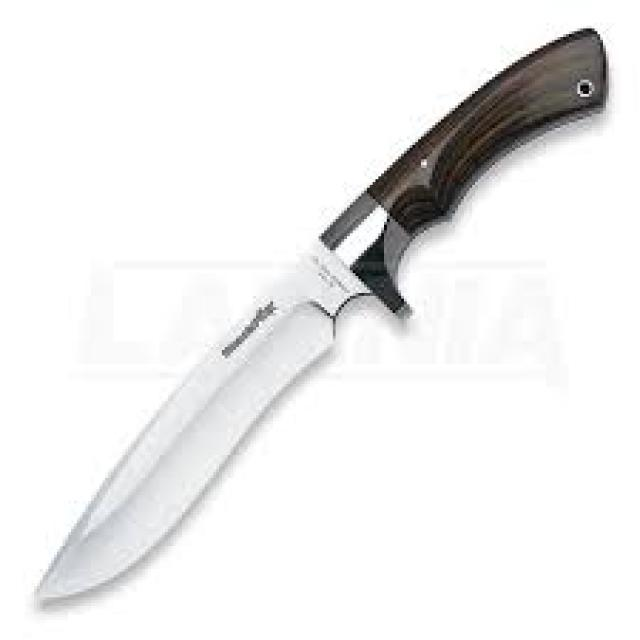knives: (26, 20, 614, 611)
